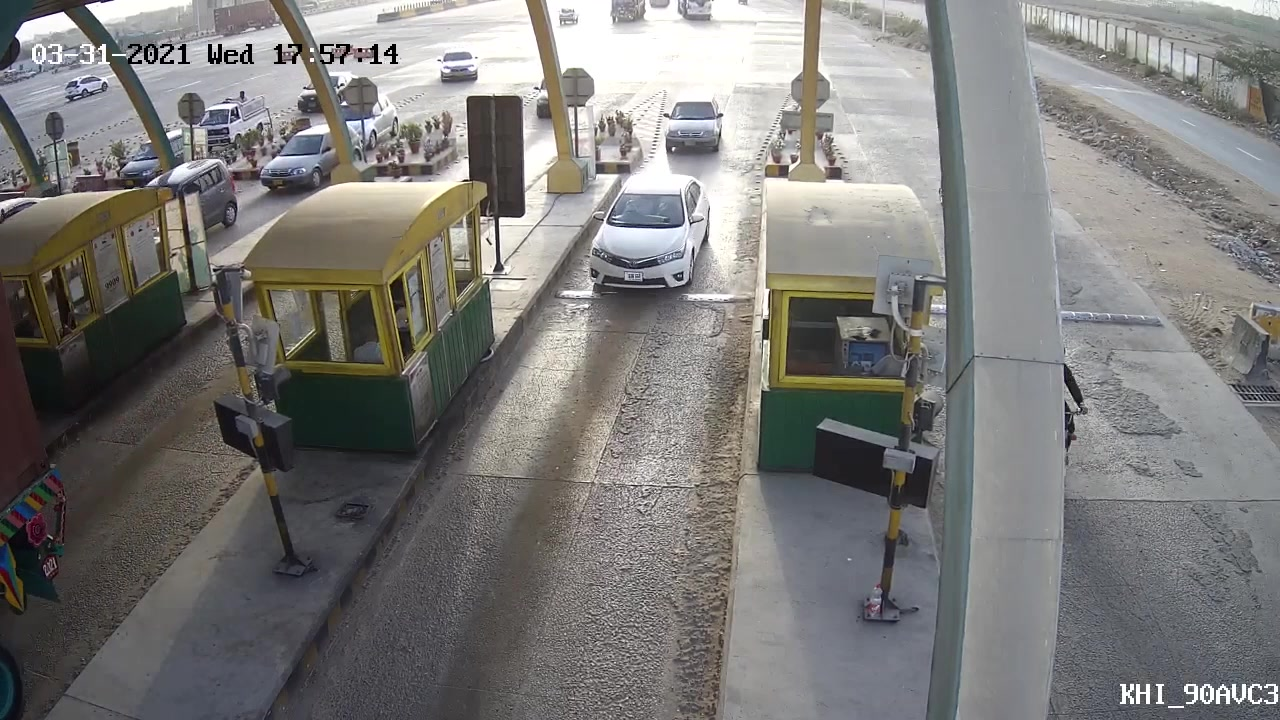F1: (578, 164, 714, 298)
